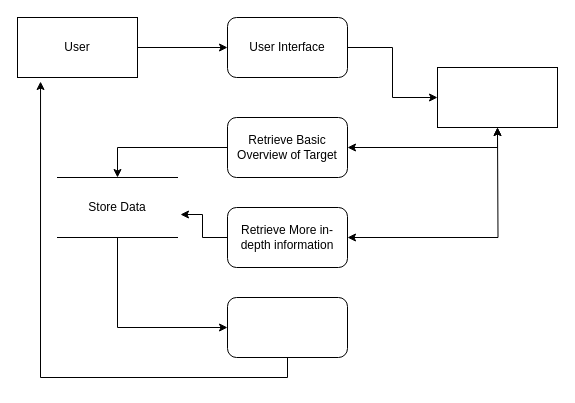
This 575x403 diagram has some shape labels left out. The shapes that lost their labels are listed below. From the top down, each one's centre as x and y in pixels, then its label:
the point at 497,97: Target
the point at 287,327: Create Report
